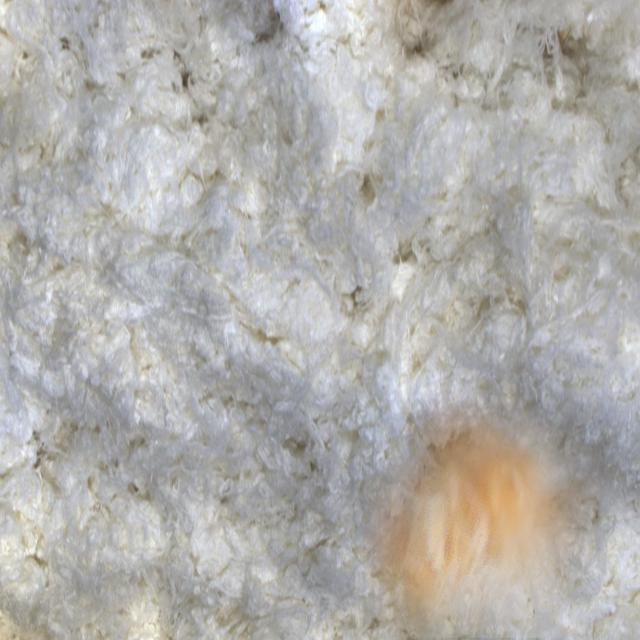dust: (363, 371, 603, 638)
